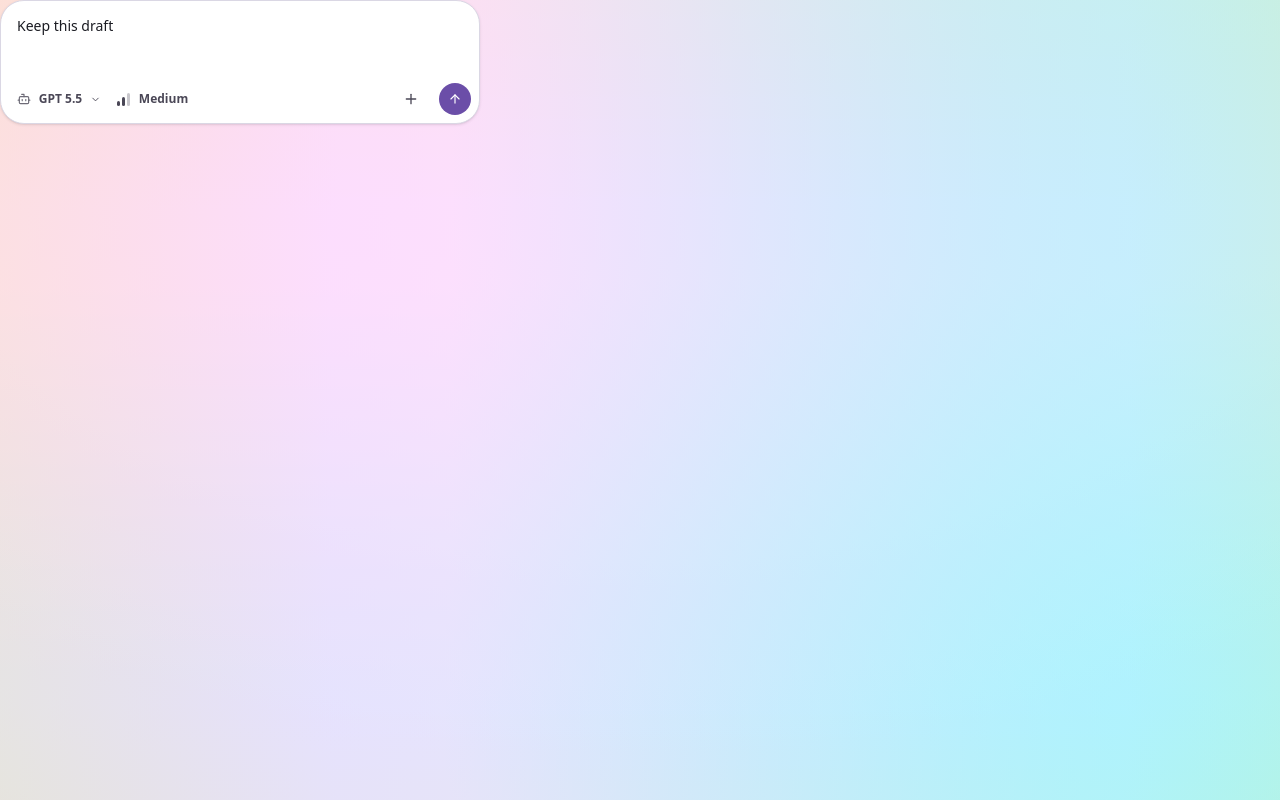
Test case: PromptInput interactions and resource ownership › preserves failed drafts and prevents duplicate asynchronous submissions
Click the button named "Send prompt".
click(455, 99)  # box [435,79,475,119]
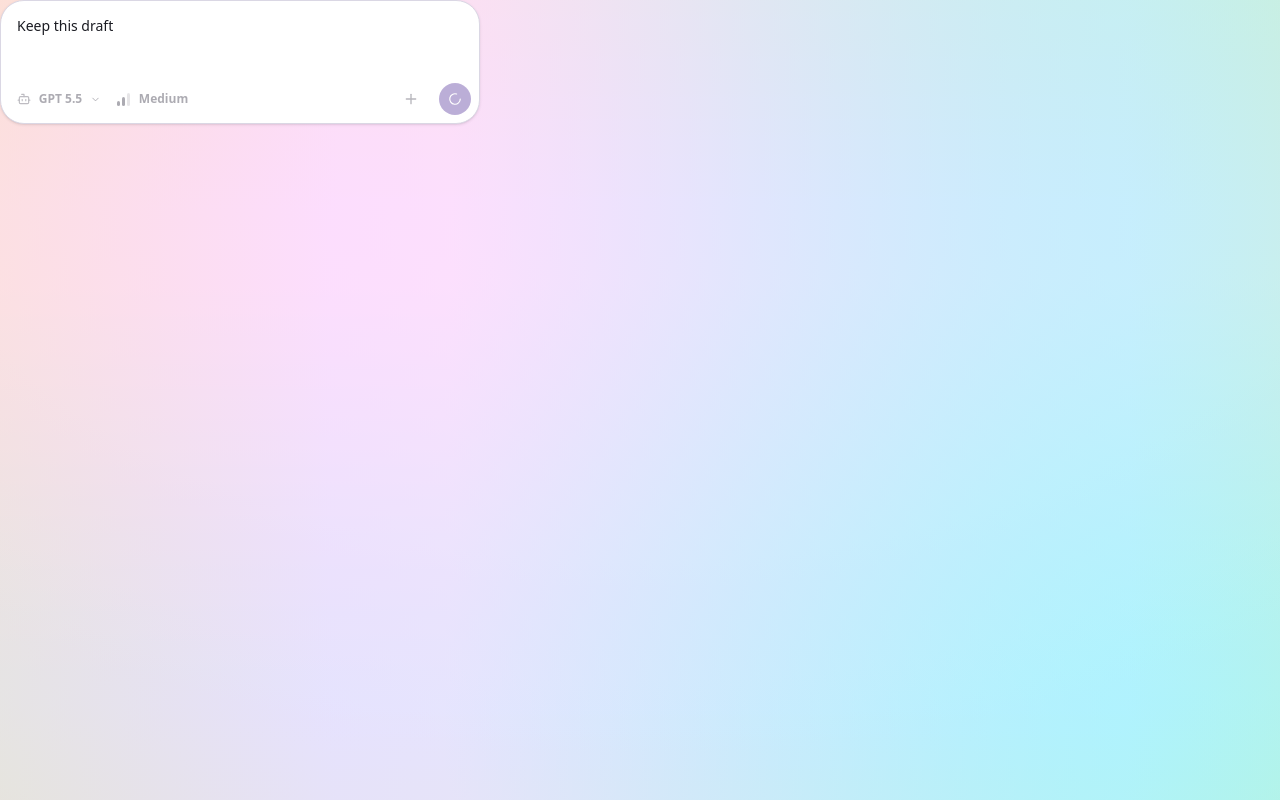
Click the button named "Send prompt".
click(455, 99)  # box [435,79,475,119]
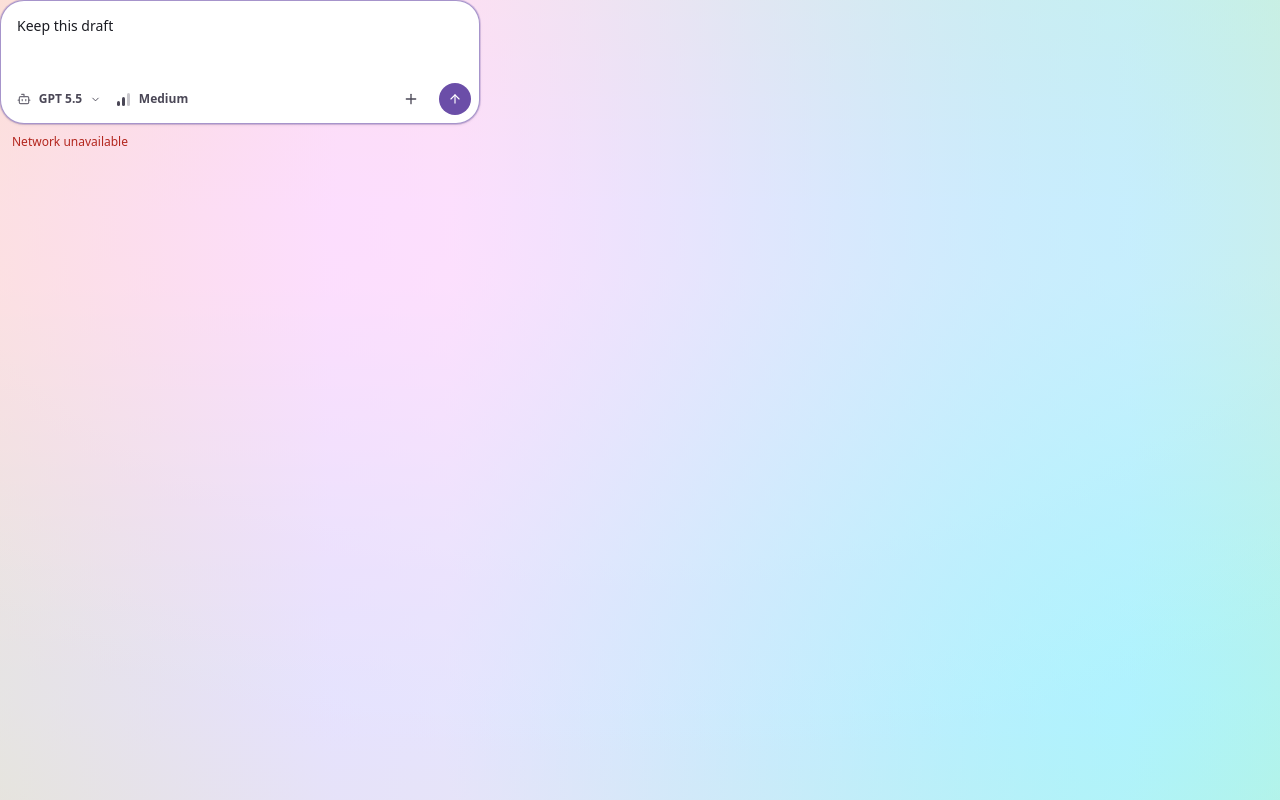
Check: the text box named "Prompt" holds "Keep this draft", box [1,1,479,69]
Check: the message reads "Network unavailable", box [12,133,128,150]
Check: the button named "Send prompt" is enabled, box [435,79,475,119]
